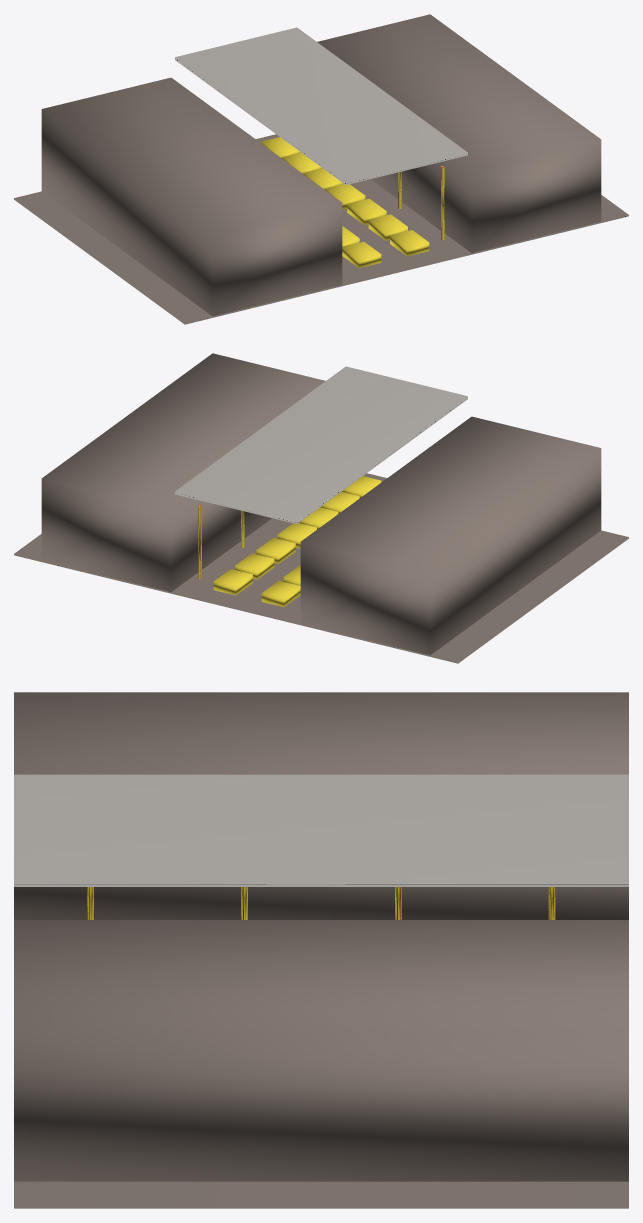
3 views of the same model, one above another, from view 1: azimuth 30°, elevation 25°; view 2: azimuth 150°, elevation 25°; view 3: azimuth 270°, elevation 25° (orthographic). The views are drawn at different scales.
Parts seen in each view (by area): view 1: roof_simplified, floor_simplified; view 2: roof_simplified, floor_simplified; view 3: roof_simplified, floor_simplified.
Part boxes in pixels (left/top/right/bottom): roof_simplified: left=41, top=14, right=601, bottom=316; floor_simplified: left=14, top=134, right=628, bottom=324; roof_simplified: left=41, top=353, right=601, bottom=655; floor_simplified: left=14, top=473, right=628, bottom=663; roof_simplified: left=14, top=692, right=628, bottom=1181; floor_simplified: left=14, top=1181, right=628, bottom=1208.
Bounding box in the file's own units: 48 × 10.65 × 32.
Materials: 2 (2 with a texture image).
